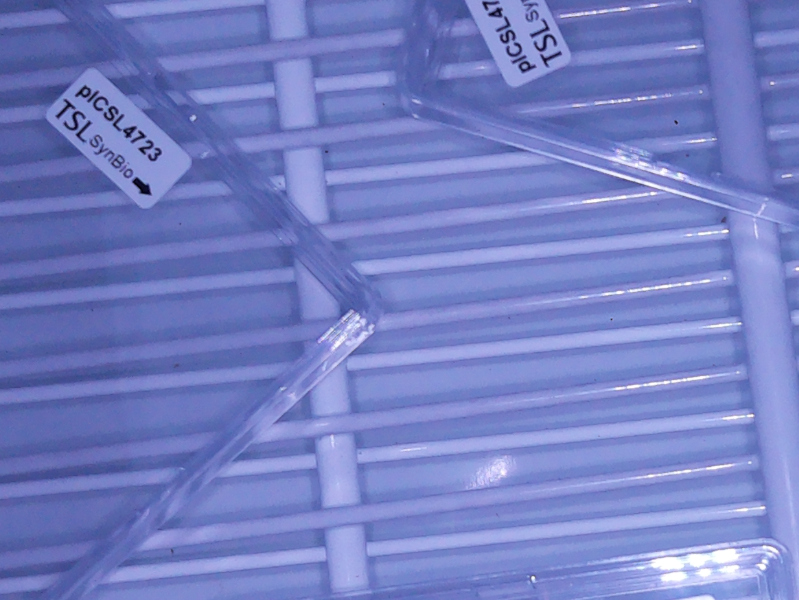plate: (1, 1, 392, 600), (392, 1, 799, 229), (381, 535, 797, 600)
